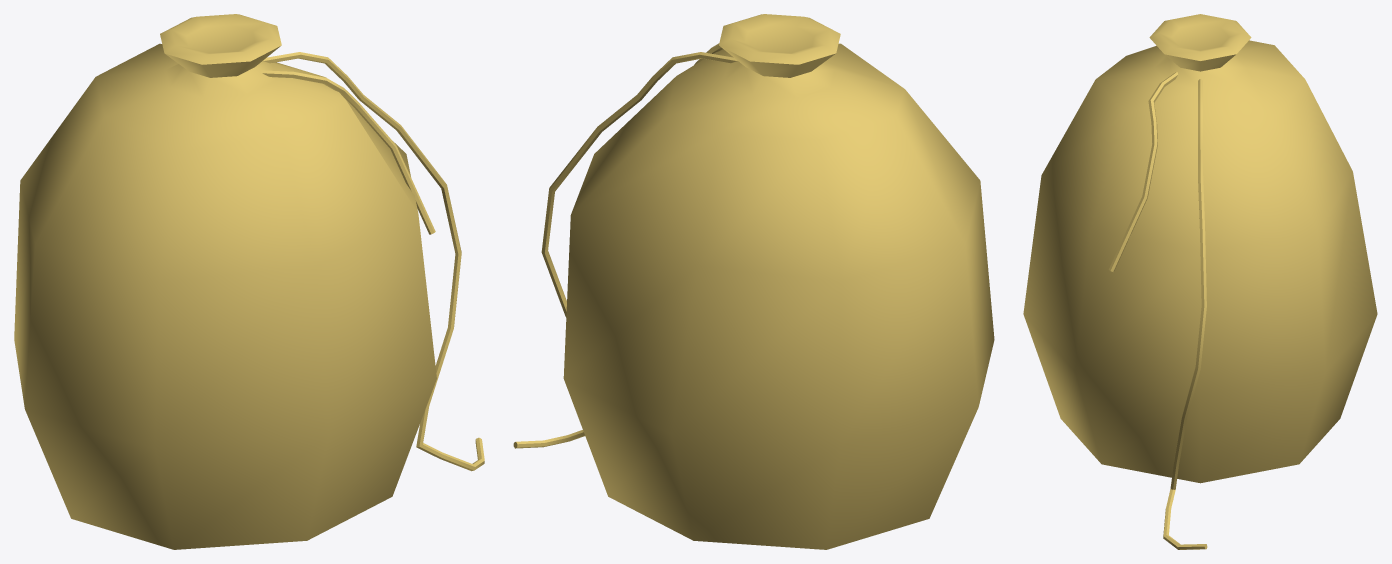
Rendered from Bag_03.fbx.
3 renders of one model, left to right at view 1: azimuth 30°, elevation 25°; view 2: azimuth 150°, elevation 25°; view 3: azimuth 270°, elevation 25°, orthographic. The views are drawn at different scales.
Parts seen in each view (by area): view 1: Bag; view 2: Bag; view 3: Bag.
Part boxes in pixels (<box>): Bag: <box>14,14,484,549</box>; Bag: <box>513,14,994,549</box>; Bag: <box>1023,14,1377,549</box>.
Size of the model in its own units: 50.17 by 50.16 by 38.98.
